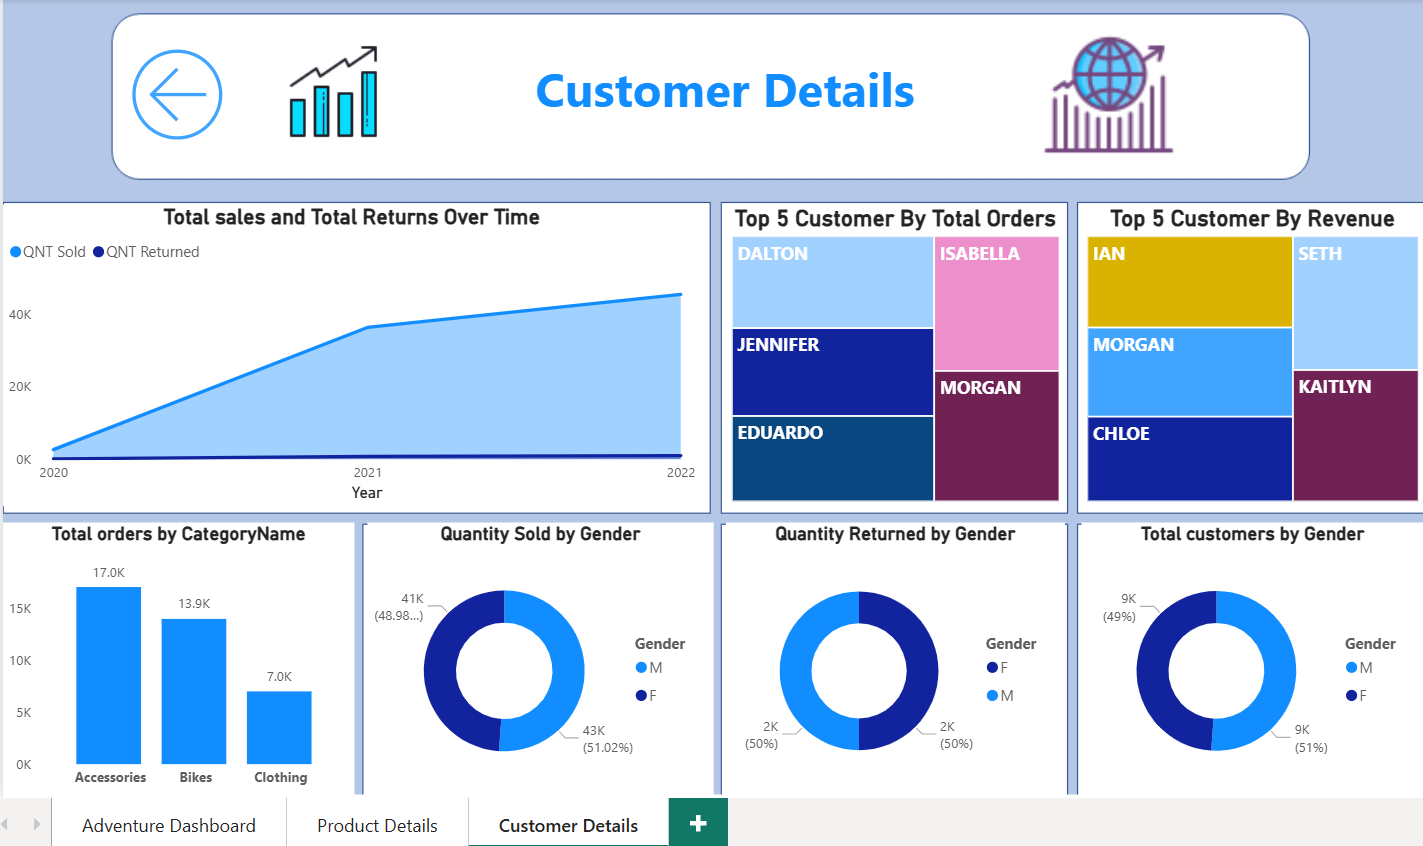

What the dashboard file says about the page in this screenshot:
{"tool":"powerbi","page":{"name":"Customer Details","canvas":[1280,720],"ordinal":2},"visuals":[{"type":"clusteredColumnChart","fields":{"Y":["Measures Table (2).Total orders"],"Category":["Product Categories.CategoryName"]},"box":[0,471.8,316.7,247.4],"z":0},{"type":"donutChart","title":"Quantity Sold by Gender","fields":{"Category":["Customer.Gender"],"Y":["Measures Table (2).QNT Sold"]},"box":[328.2,471.8,311.8,247.4],"z":1000},{"type":"donutChart","title":"Quantity Returned by Gender","fields":{"Category":["Customer.Gender"],"Y":["Measures Table (2).QNT Returned"]},"box":[651.5,471.8,305.2,247.4],"z":2000},{"type":"donutChart","fields":{"Y":["Measures Table (2).Total customers"],"Category":["Customer.Gender"]},"box":[971.5,471.8,308.5,247.4],"z":3000},{"type":"areaChart","title":"Total sales and Total Returns Over Time","fields":{"Y":["Measures Table (2).QNT Sold","Measures Table (2).QNT Returned"],"Category":["Calendar.Date.Variation.Date Hierarchy.Year"]},"box":[0,184.7,628.5,272.2],"z":4000},{"type":"treemap","title":"Top 5 Customer By Total Orders","fields":{"Group":["Customer.FirstName"],"Values":["Measures Table (2).Total orders"]},"box":[651.5,184.7,305.2,272.2],"z":5000},{"type":"treemap","title":"Top 5 Customer By Revenue","fields":{"Values":["Measures Table (2).Revenue"],"Group":["Customer.FirstName"]},"box":[971.5,184.7,308.5,272.2],"z":6000},{"type":"textbox","box":[336.5,46.2,628.5,110.5],"z":6001},{"type":"image","box":[130.3,26.4,336.5,118.8],"z":6002},{"type":"image","box":[828,26.4,336.5,118.8],"z":6003},{"type":"actionButton","box":[107.2,34.6,100.6,102.3],"z":6004}]}

Visuals, with their boxes in screenshot pixels (x1, y1, x2, y2):
clusteredColumnChart - Measures Table (2).Total orders x Product Categories.CategoryName: BBox(11, 525, 358, 796)
"Quantity Sold by Gender" donutChart: BBox(371, 525, 713, 796)
"Quantity Returned by Gender" donutChart: BBox(725, 525, 1060, 796)
donutChart - Measures Table (2).Total customers x Customer.Gender: BBox(1076, 525, 1414, 796)
"Total sales and Total Returns Over Time" areaChart: BBox(11, 210, 700, 508)
"Top 5 Customer By Total Orders" treemap: BBox(725, 210, 1060, 508)
"Top 5 Customer By Revenue" treemap: BBox(1076, 210, 1414, 508)
textbox: BBox(380, 58, 1069, 179)
image: BBox(154, 36, 523, 167)
image: BBox(919, 36, 1288, 167)
actionButton: BBox(129, 45, 239, 158)
